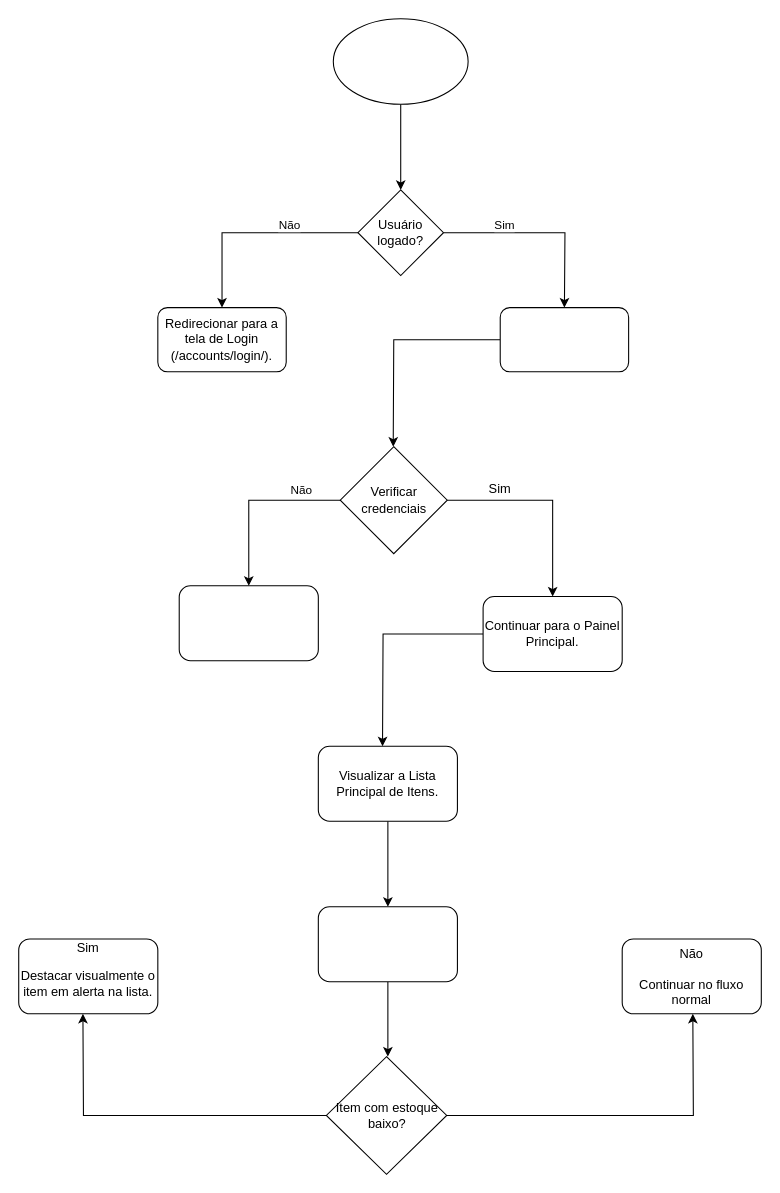
The diagram is 780 pixels wide and 1193 high, and some of its shapes have lost their labels. Each missing label, with the centre of its shape:
"Acessar o Painel Principal/Lista de Itens." belongs at pixel 564 339.
"Aplicar filtros de busca (se houver)." belongs at pixel 387 944.
"Exibir Erro e Retornar ao Login." belongs at pixel 248 623.
"Início Acessar a URL" belongs at pixel 400 61.
